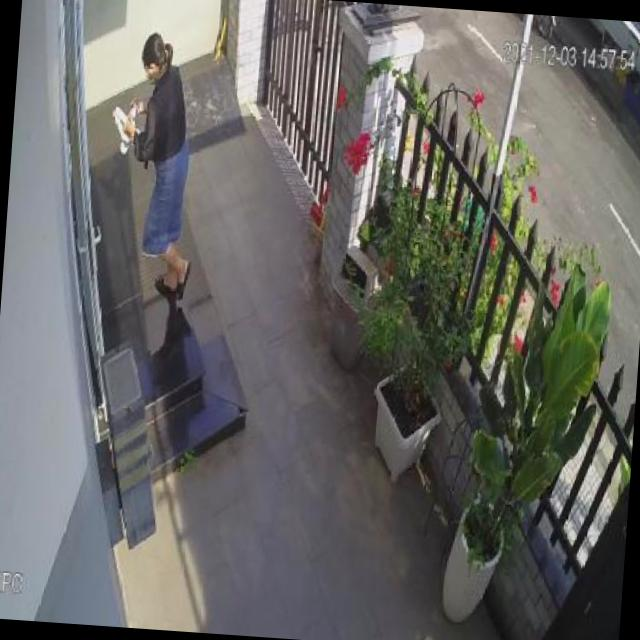Person: (112, 26, 206, 306)
